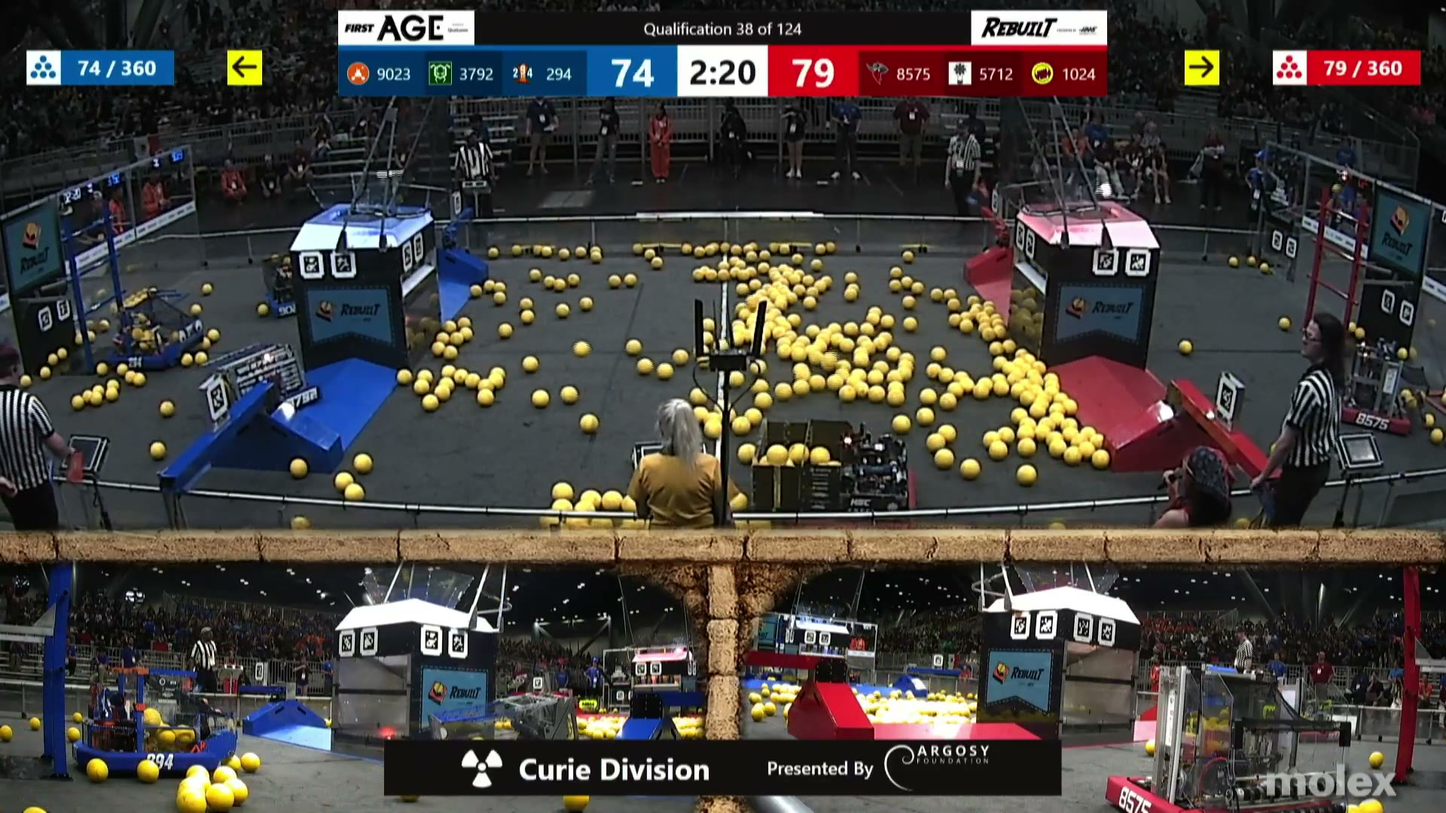robot-detect: (1160, 643, 1370, 813), (747, 419, 925, 505), (75, 694, 238, 781), (1324, 343, 1446, 433), (201, 348, 343, 415), (481, 690, 590, 759), (109, 293, 207, 368), (244, 265, 339, 320)
